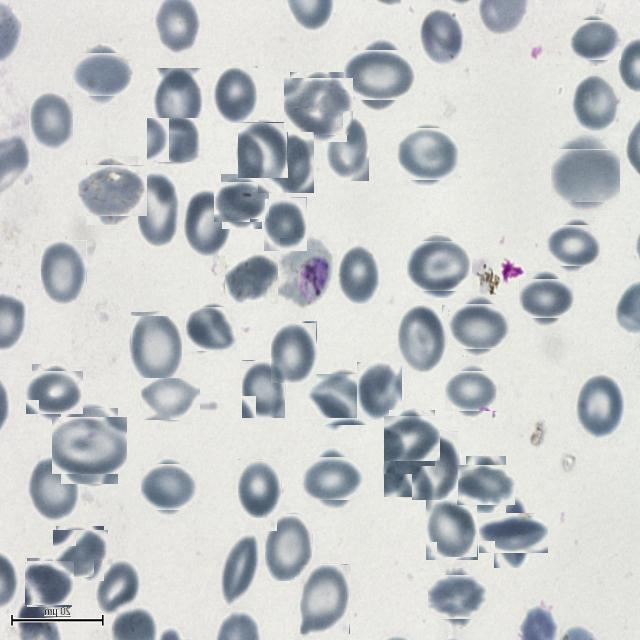red blood cell: (56, 412, 122, 480), (286, 75, 351, 138), (554, 144, 616, 207), (350, 44, 410, 106), (130, 311, 182, 382), (82, 160, 142, 221), (300, 564, 350, 634), (28, 456, 80, 522), (258, 132, 314, 193), (134, 173, 180, 247), (398, 304, 447, 373), (426, 496, 478, 560), (310, 371, 368, 428), (265, 513, 313, 581), (399, 126, 456, 183), (411, 237, 468, 294), (182, 190, 230, 257), (412, 431, 458, 500), (154, 68, 202, 134), (576, 374, 624, 438), (486, 506, 542, 560), (41, 240, 87, 305), (452, 299, 506, 353), (271, 322, 317, 384), (75, 48, 128, 101), (219, 534, 259, 604), (238, 122, 288, 178), (573, 73, 621, 131), (306, 452, 358, 505), (326, 117, 369, 181), (143, 462, 195, 514), (54, 528, 106, 580), (225, 254, 278, 304), (419, 8, 464, 66), (357, 362, 402, 420), (387, 412, 438, 463), (432, 572, 482, 624), (151, 114, 201, 166), (238, 459, 282, 518), (94, 560, 141, 615), (29, 92, 73, 150), (242, 360, 286, 418), (29, 367, 79, 418), (337, 245, 380, 304), (141, 378, 200, 421), (157, 0, 203, 55), (214, 66, 258, 123), (461, 461, 511, 510), (550, 220, 598, 270), (264, 197, 307, 251), (522, 274, 570, 322), (188, 305, 236, 353), (218, 178, 266, 225), (26, 559, 73, 606), (448, 368, 496, 414), (384, 442, 424, 497), (573, 17, 619, 63)
trophozoite: (280, 238, 333, 305)
